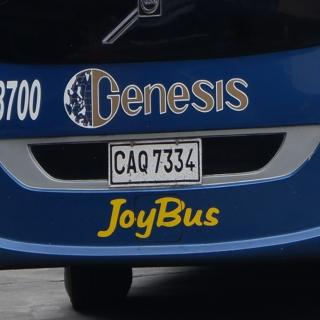license: (110, 139, 203, 188)
